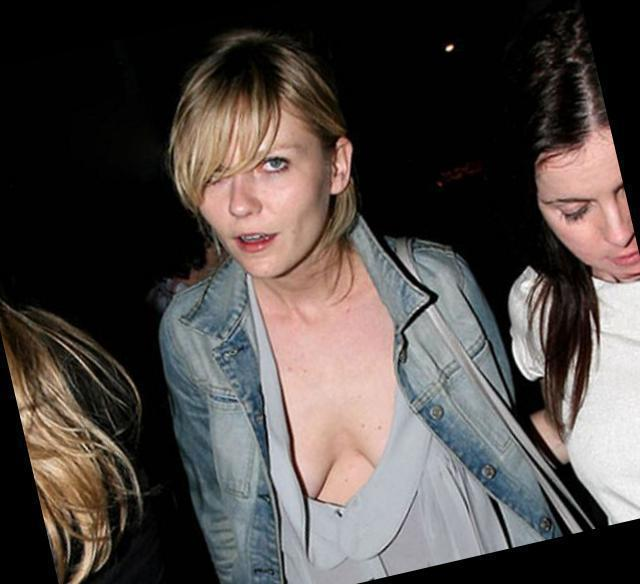Drunk: (188, 120, 321, 265)
